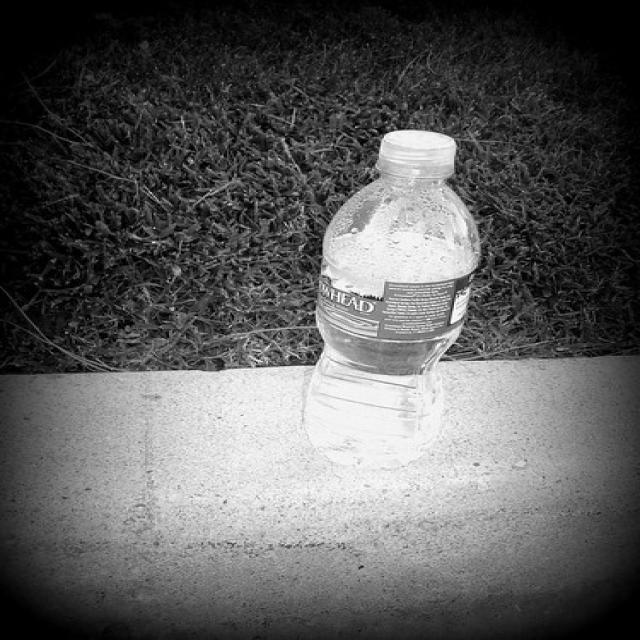plastic_bottle: (303, 130, 481, 470)
